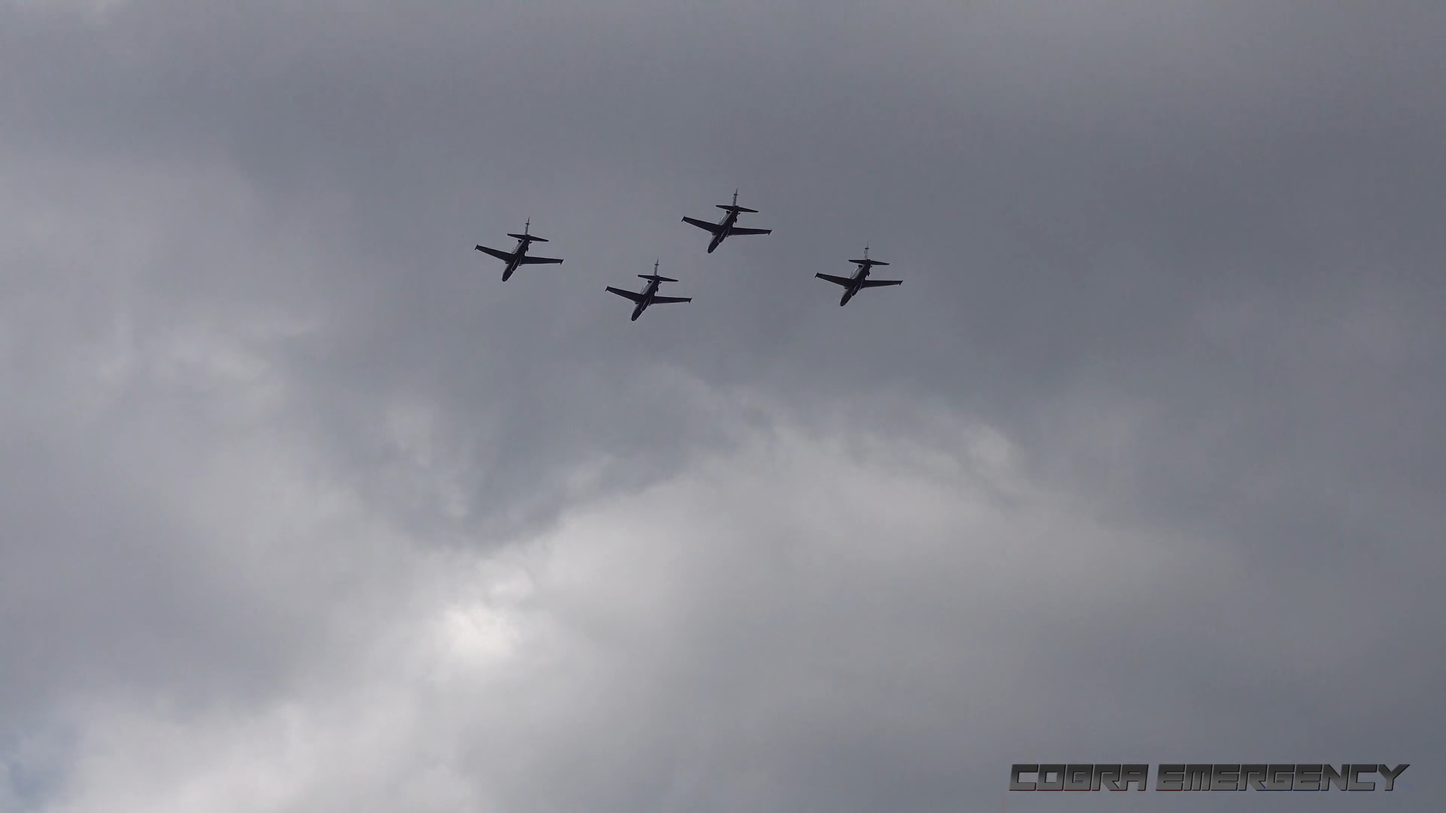not_drone: (680, 192, 774, 256), (607, 260, 697, 322), (479, 222, 563, 288), (818, 247, 900, 307)
